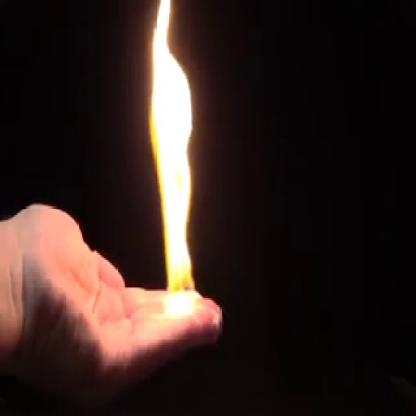fire: (139, 0, 203, 324)
